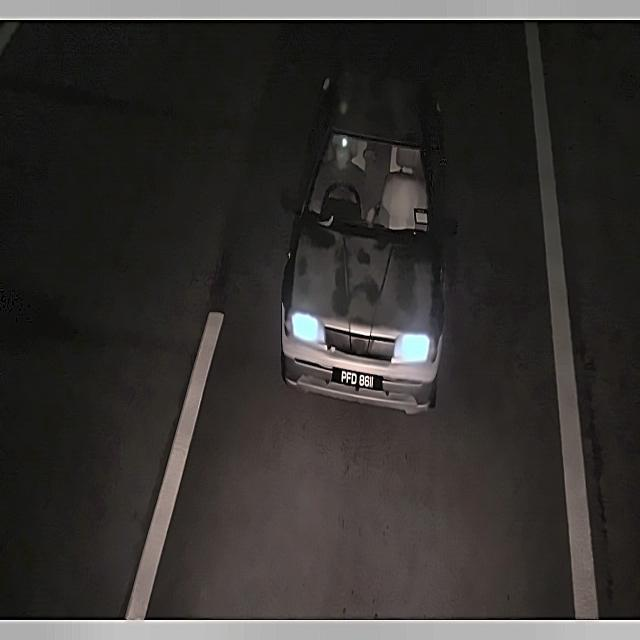car: (326, 365, 383, 398)
